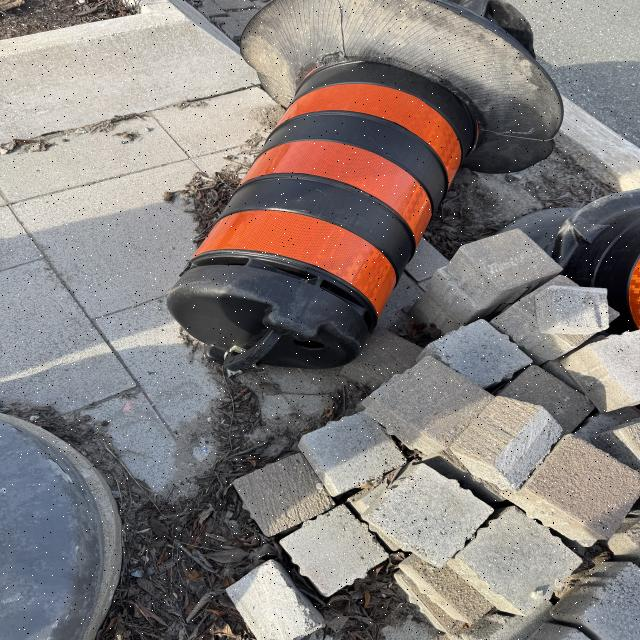Teraffic Barrel: (167, 0, 561, 369), (501, 189, 640, 333)
